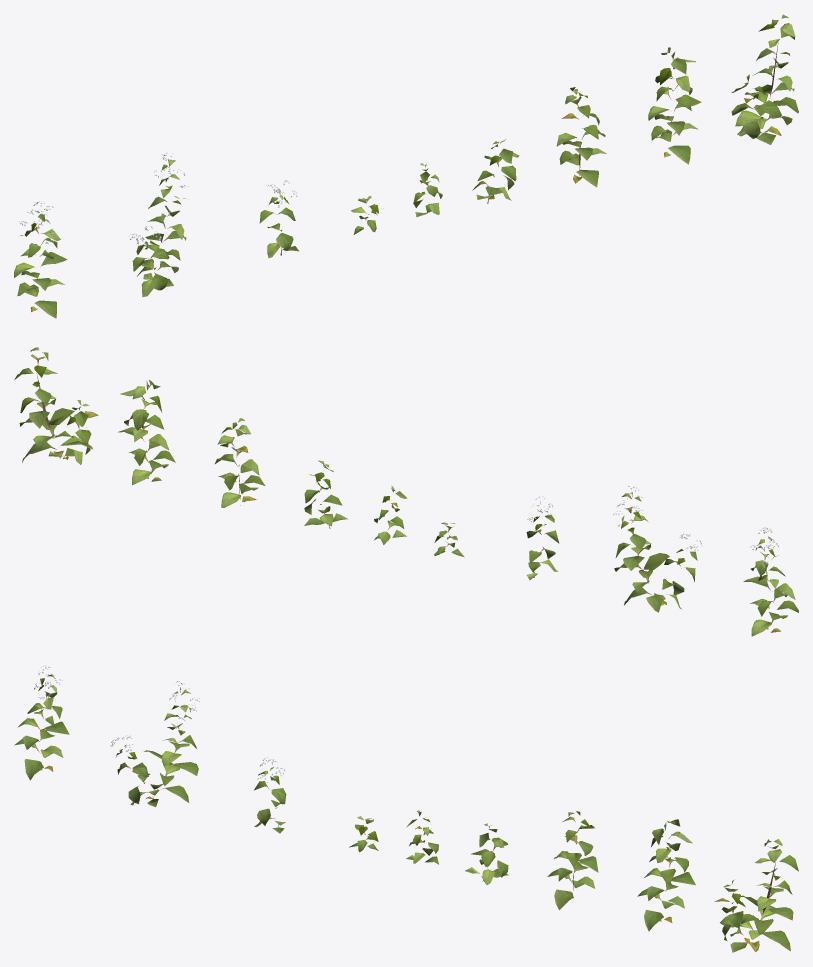
File: assets__ph__shrub_01.glb
The picture shows the model from 3 angles, top to bottom: view 1: azimuth 30°, elevation 25°; view 2: azimuth 150°, elevation 25°; view 3: azimuth 330°, elevation 25°; orthographic projection. The views are drawn at different scales.
Parts seen in each view (by area): view 1: shrub_01_a; view 2: shrub_01_a; view 3: shrub_01_a.
Part boxes in pixels (x1,y1,x2,y2): shrub_01_a: (14, 14, 798, 318); shrub_01_a: (14, 347, 798, 636); shrub_01_a: (14, 665, 798, 952).
Size of the model in its own units: 2.59 by 0.3949 by 0.2161.
1 material, 1 textured.
